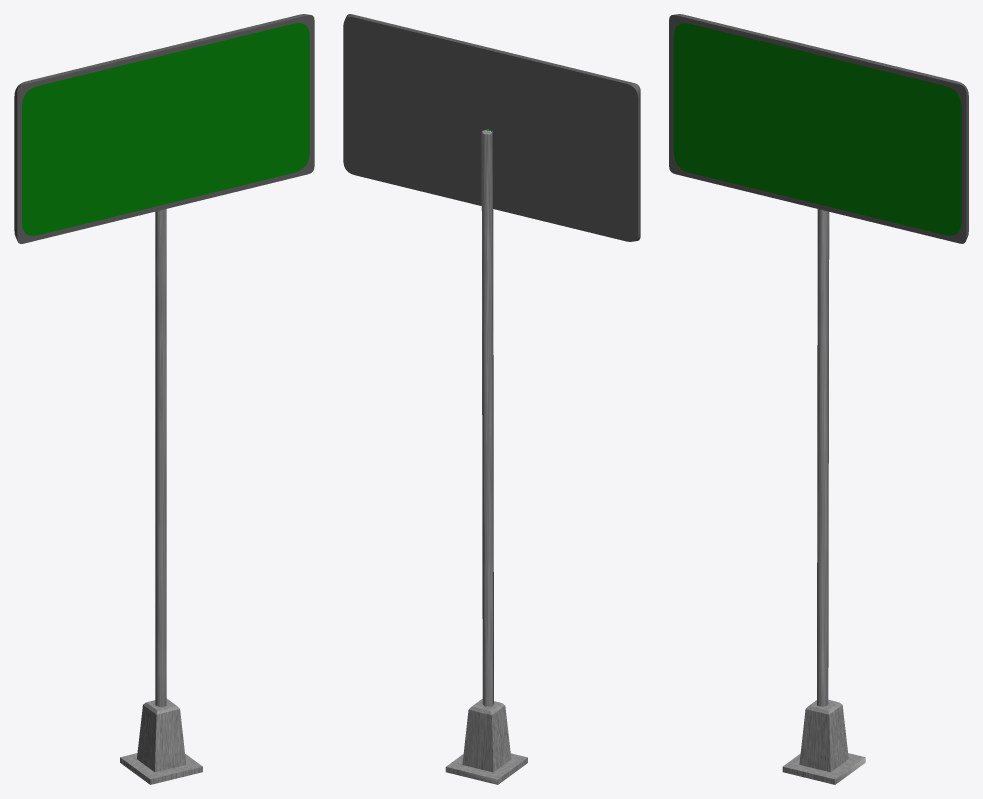
Rendered from rect_board.fbx.
3 views of the same model, side by side, from view 1: azimuth 30°, elevation 25°; view 2: azimuth 150°, elevation 25°; view 3: azimuth 330°, elevation 25° (orthographic).
Visible parts, largest first — view 1: board, board_pole; view 2: board, board_pole; view 3: board, board_pole.
Boxes of the visible parts, x1=… form: board: x1=14, y1=14, x2=314, y2=243; board_pole: x1=120, y1=209, x2=202, y2=784; board: x1=343, y1=14, x2=640, y2=241; board_pole: x1=445, y1=129, x2=527, y2=784; board: x1=669, y1=14, x2=968, y2=243; board_pole: x1=782, y1=209, x2=865, y2=784.
Bounding box in the file's own units: 32.04 × 74.3 × 5.67.
1 material, 1 textured.
